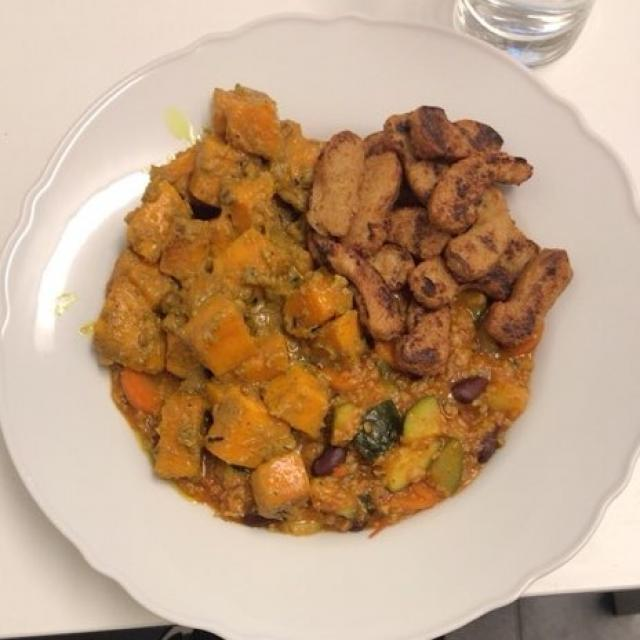sweet-potato: (118, 93, 358, 501)
tofu: (311, 106, 578, 382)
zucchini: (265, 392, 460, 533)
